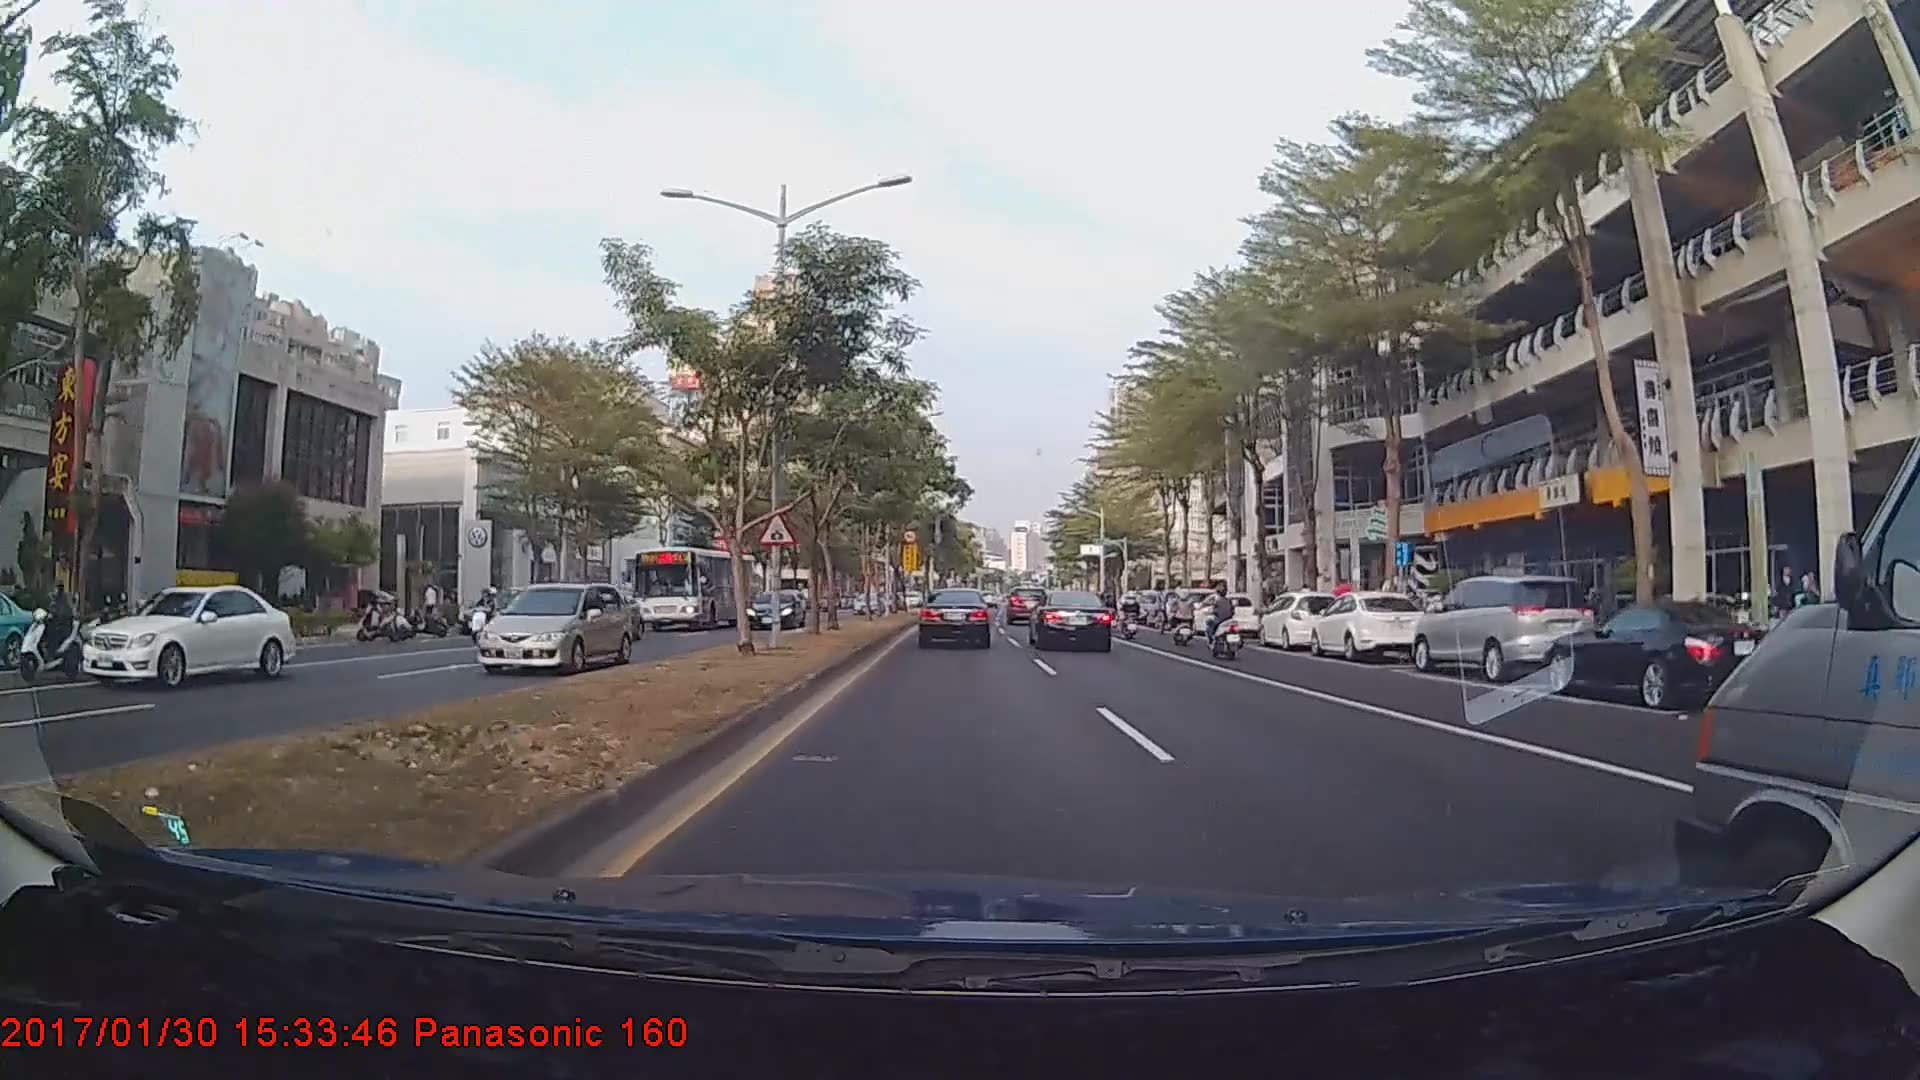rider: (21, 578, 93, 683), (1202, 582, 1251, 660), (1157, 590, 1206, 646), (466, 584, 507, 644), (1117, 586, 1144, 638)
vehicle: (1665, 349, 1919, 919), (1541, 601, 1788, 711), (78, 581, 296, 690), (1411, 570, 1599, 683), (473, 576, 632, 674), (631, 542, 758, 628), (1307, 589, 1425, 659), (1253, 588, 1345, 649), (1030, 588, 1114, 653), (919, 587, 992, 649), (0, 577, 37, 666), (1192, 591, 1258, 635), (743, 588, 806, 629), (1005, 586, 1046, 625)
